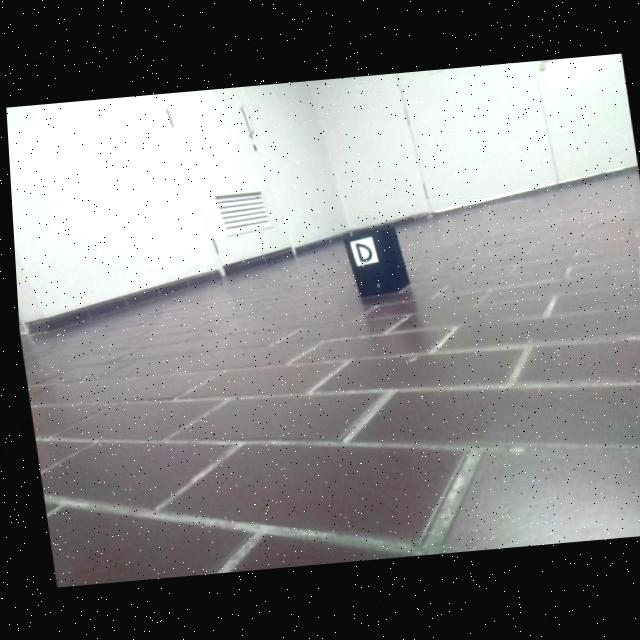D: (351, 242, 370, 263)
